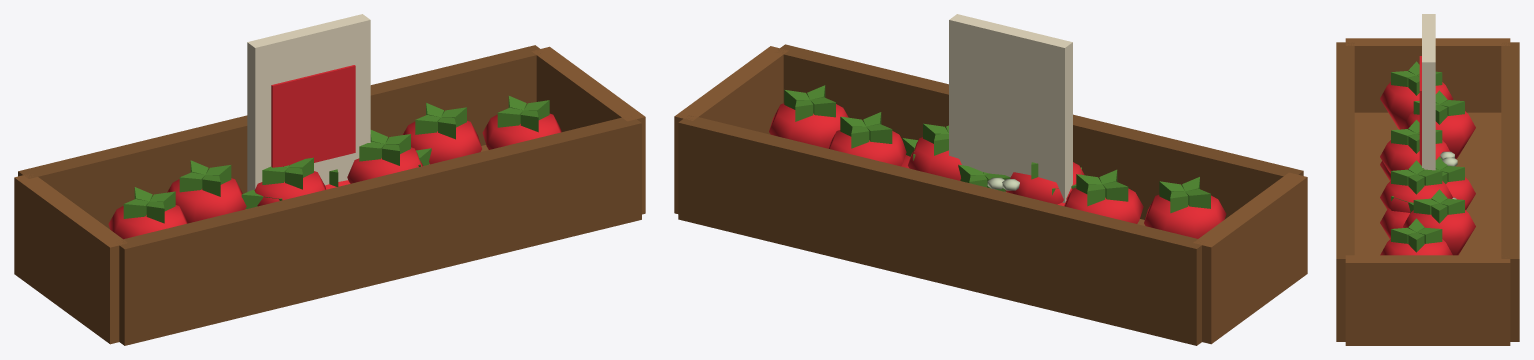
Rendered from Fruit_Strawberry.fbx.
3 views of the same model, side by side, from view 1: azimuth 30°, elevation 25°; view 2: azimuth 150°, elevation 25°; view 3: azimuth 270°, elevation 25° (orthographic). The views are drawn at different scales.
Parts seen in each view (by area): view 1: Fruit_Strawberry__Stack, Fruit_Strawberry__Seed, Fruit_Strawberry; view 2: Fruit_Strawberry__Stack, Fruit_Strawberry__Seed, Fruit_Strawberry; view 3: Fruit_Strawberry__Stack, Fruit_Strawberry__Seed, Fruit_Strawberry, Fruit_Strawberry__Rotten.
Boxes of the visible parts, left/top/right/bottom form: Fruit_Strawberry__Stack: left=14, top=45, right=645, bottom=345; Fruit_Strawberry__Seed: left=247, top=14, right=370, bottom=191; Fruit_Strawberry: left=241, top=148, right=431, bottom=209; Fruit_Strawberry__Stack: left=674, top=44, right=1307, bottom=345; Fruit_Strawberry__Seed: left=949, top=14, right=1072, bottom=202; Fruit_Strawberry: left=901, top=138, right=1081, bottom=205; Fruit_Strawberry__Stack: left=1336, top=38, right=1519, bottom=345; Fruit_Strawberry__Seed: left=1419, top=14, right=1435, bottom=170; Fruit_Strawberry: left=1380, top=156, right=1475, bottom=238; Fruit_Strawberry__Rotten: left=1440, top=151, right=1457, bottom=199.
Bounding box in the file's own units: 0.232 × 0.09 × 0.08.
